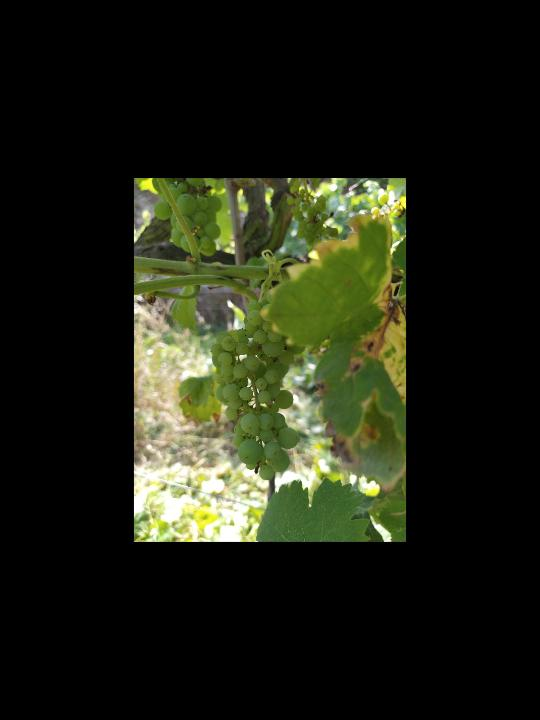grape: (207, 295, 301, 483)
